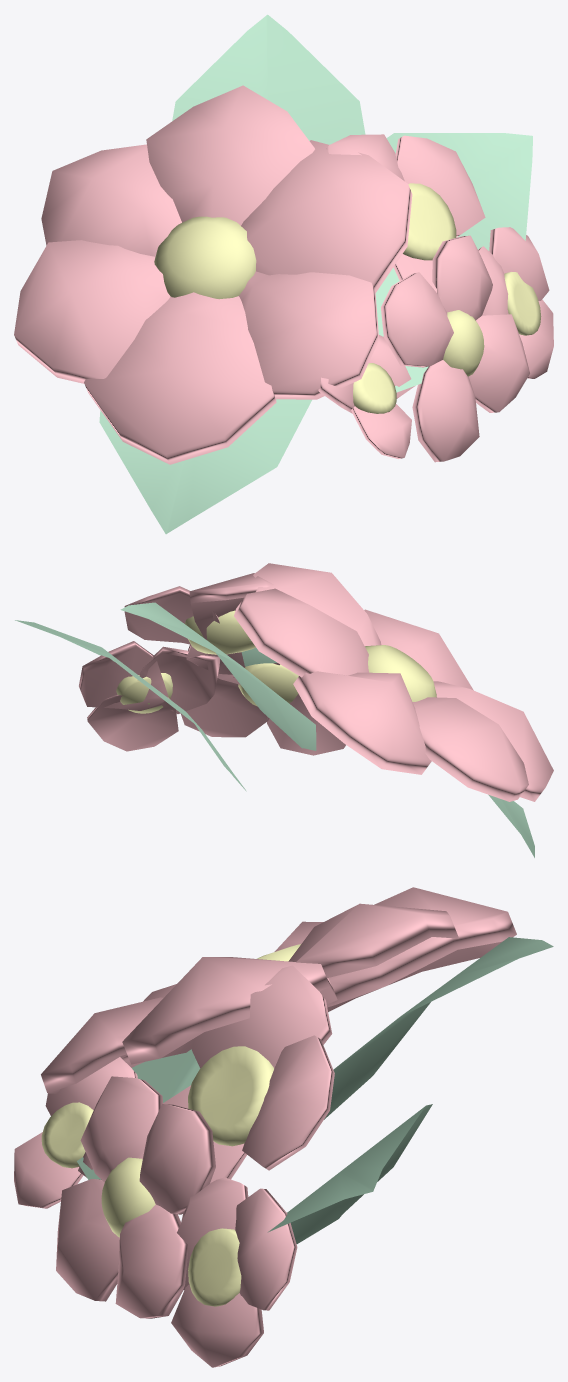
The model's file is Flower2_UV.fbx.
The picture shows the model from 3 angles, top to bottom: view 1: azimuth 30°, elevation 25°; view 2: azimuth 150°, elevation 25°; view 3: azimuth 270°, elevation 25°; orthographic projection. The views are drawn at different scales.
Visible parts, largest first — view 1: Flower2_UV; view 2: Flower2_UV; view 3: Flower2_UV.
Part boxes in pixels (<box>): Flower2_UV: <box>14,14,553,534</box>; Flower2_UV: <box>15,563,553,857</box>; Flower2_UV: <box>14,887,553,1367</box>.
Bounding box in the file's own units: 1.31 × 0.7708 × 0.9653.
